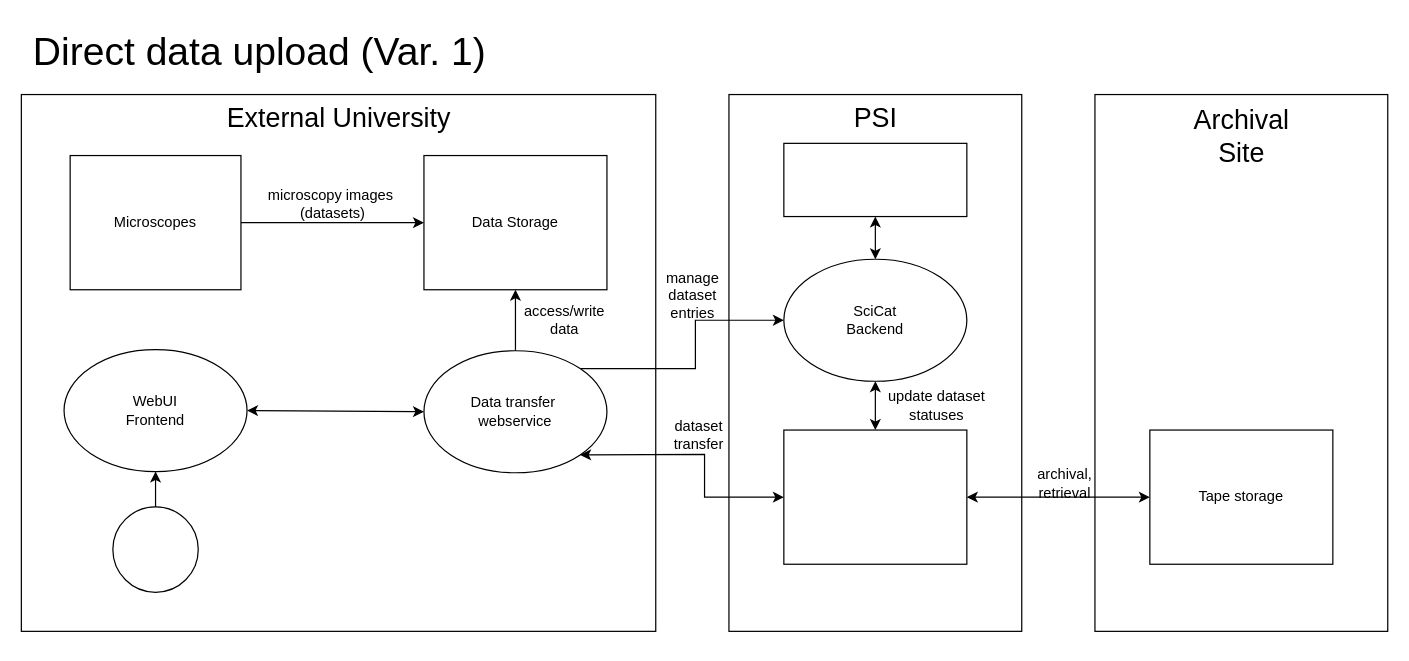
Some shapes in this 1409 by 661 pixel diagram are drawn without their labels. The shapes that lost their labels are listed below. From the top down, each one's centre as x and y in pixels, then its label:
(875,179): SC Database
(875,496): Data Cache
(155,549): User
